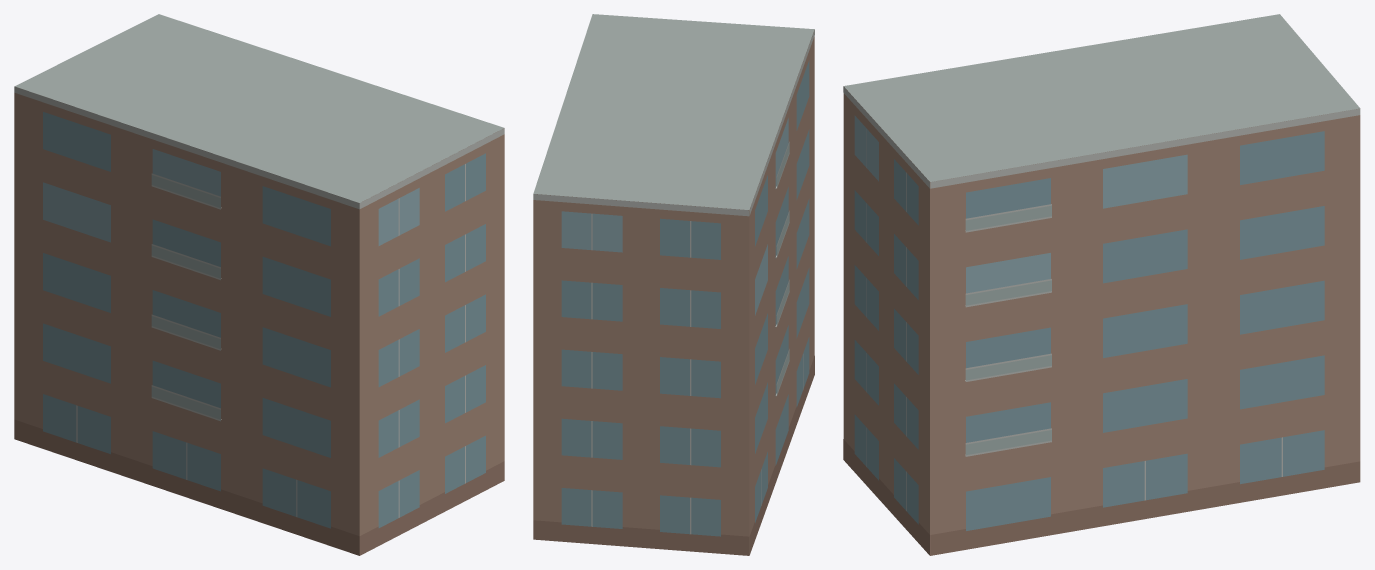
Rendered from survey-upis-32884165.glb.
3 renders of one model, left to right at view 1: azimuth 30°, elevation 25°; view 2: azimuth 150°, elevation 25°; view 3: azimuth 270°, elevation 25°, orthographic. The views are drawn at different scales.
Visible parts, largest first — view 1: survey-upis-32884165.tmp; view 2: survey-upis-32884165.tmp; view 3: survey-upis-32884165.tmp.
Boxes of the visible parts, x1,y1,x2,y2 form: survey-upis-32884165.tmp: (14, 14, 504, 555); survey-upis-32884165.tmp: (533, 14, 814, 555); survey-upis-32884165.tmp: (843, 14, 1360, 555).
Bounding box in the file's own units: 13.22 × 13.7 × 17.18.
